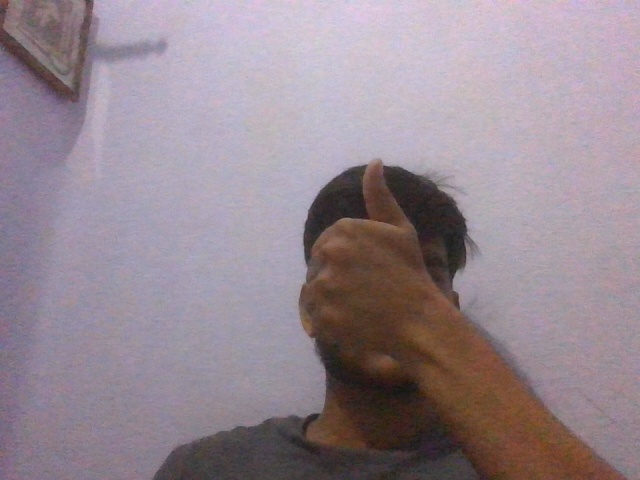thanks: (278, 142, 491, 403)
